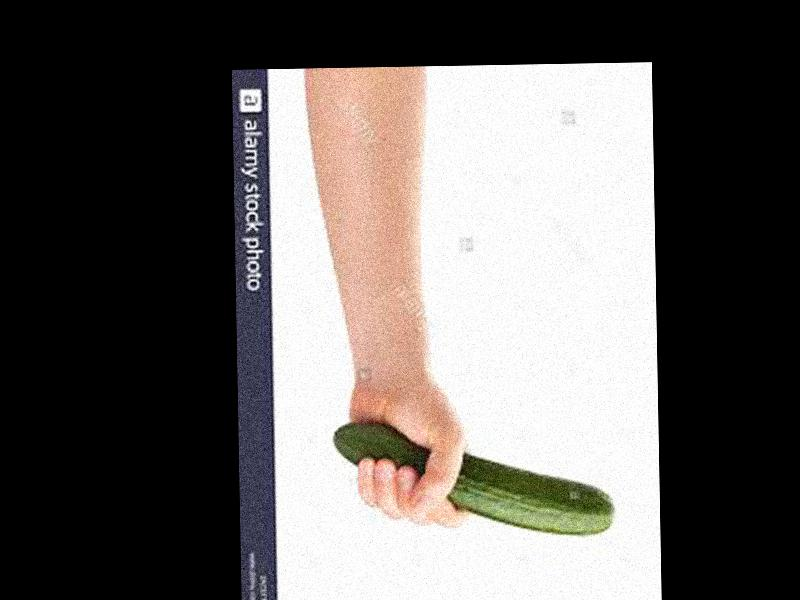Cucumber: (334, 420, 614, 541)
